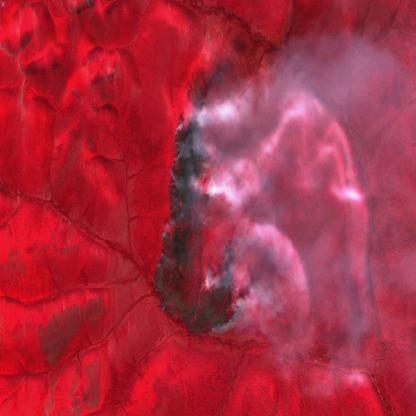fire: (144, 90, 247, 342)
